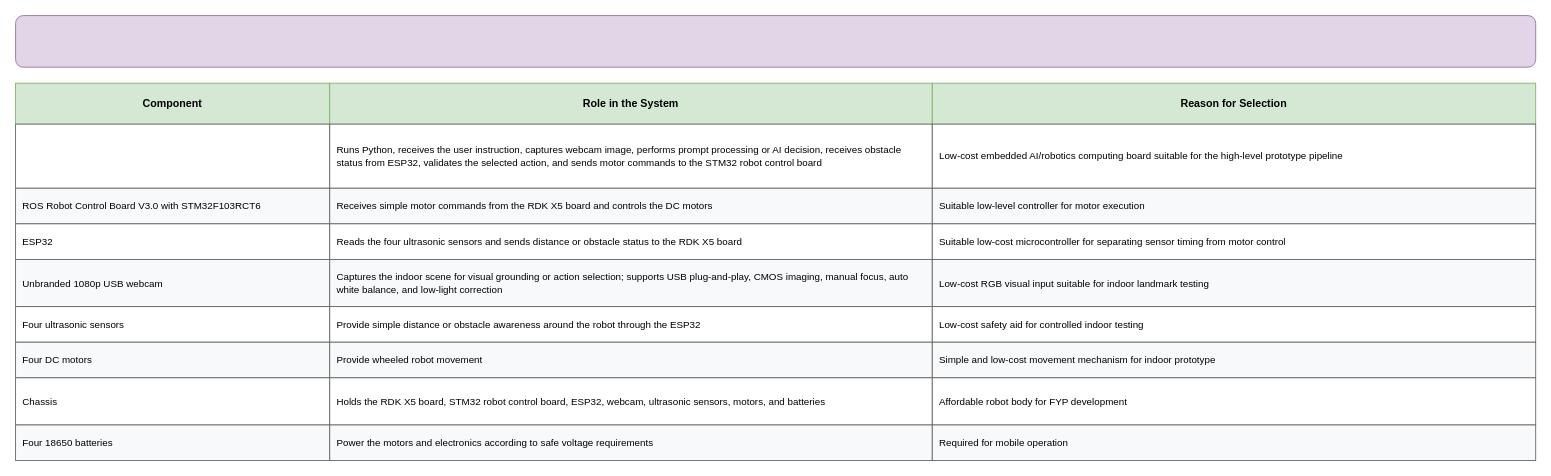
Some shapes in this 1551 by 476 pixel diagram are drawn without their labels. Each missing label, with the box of its shape:
RDK X5 development board with 8GB RAM: (15, 123, 330, 188)
Table 3.3: Proposed Hardware Components and Roles: (15, 15, 1536, 67)
